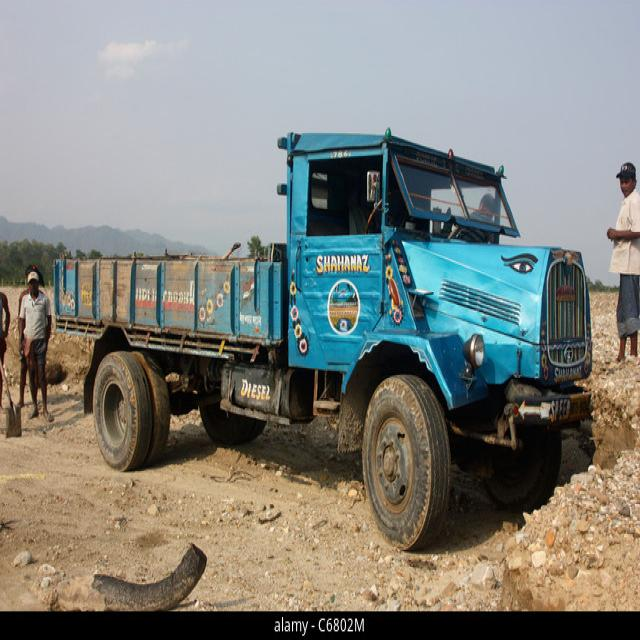truck: (55, 131, 592, 549)
